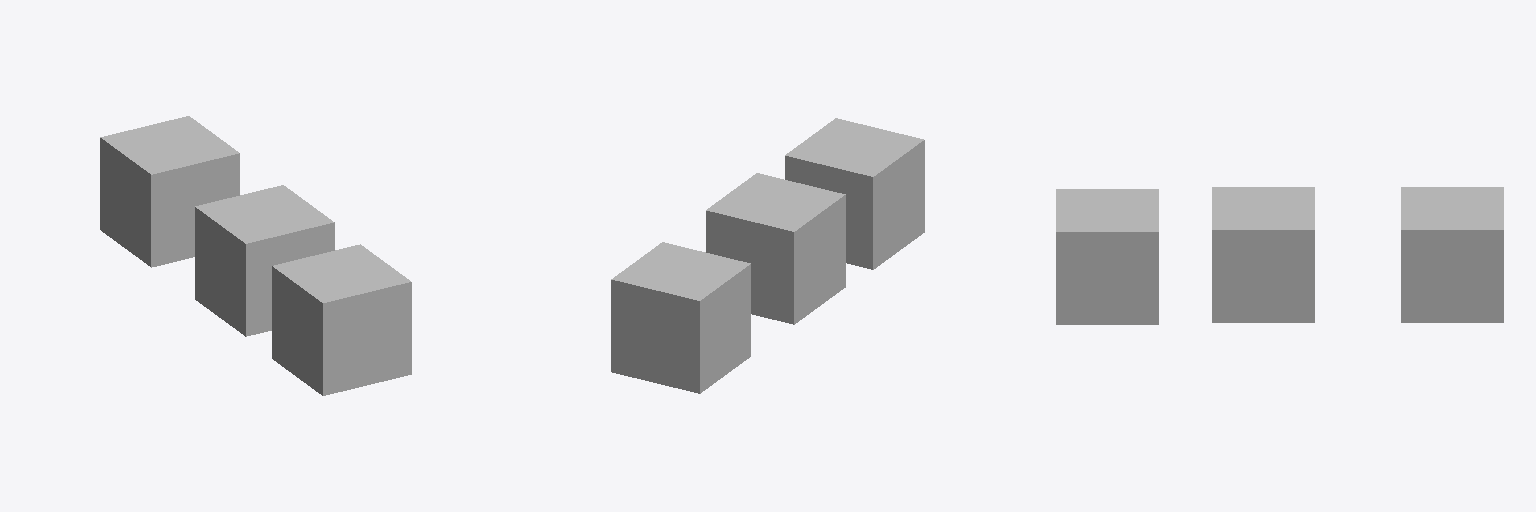
File: casa5.obj
3 renders of one model, left to right at view 1: azimuth 30°, elevation 25°; view 2: azimuth 150°, elevation 25°; view 3: azimuth 270°, elevation 25°, orthographic.
Parts seen in each view (by area): view 1: Cube_Cube.001, Cube.002_Cube.003, Cube.001_Cube.002; view 2: Cube.002_Cube.003, Cube.001_Cube.002, Cube_Cube.001; view 3: Cube.002_Cube.003, Cube.001_Cube.002, Cube_Cube.001.
Part boxes in pixels (x1,y1,x2,y2): Cube_Cube.001: (272, 244, 411, 395); Cube.002_Cube.003: (100, 116, 239, 267); Cube.001_Cube.002: (195, 185, 334, 336); Cube.002_Cube.003: (611, 242, 750, 393); Cube.001_Cube.002: (706, 173, 845, 324); Cube_Cube.001: (785, 118, 924, 269); Cube.002_Cube.003: (1401, 187, 1503, 322); Cube.001_Cube.002: (1212, 187, 1314, 322); Cube_Cube.001: (1056, 189, 1158, 324).
Size of the model in its own units: 2.02 by 2.04 by 8.73.